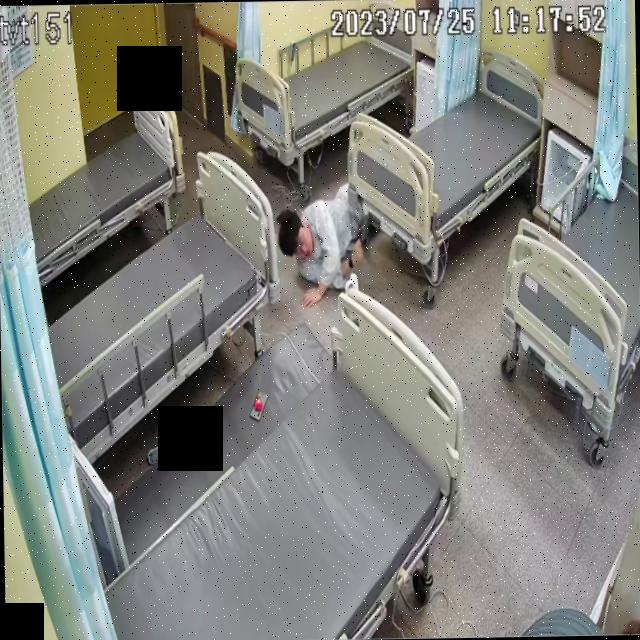bed: (98, 296, 458, 640), (39, 155, 278, 453), (501, 136, 640, 431), (344, 58, 543, 242), (24, 81, 186, 281), (238, 15, 414, 164)
fall: (282, 177, 364, 304)
patient: (281, 170, 364, 301)
